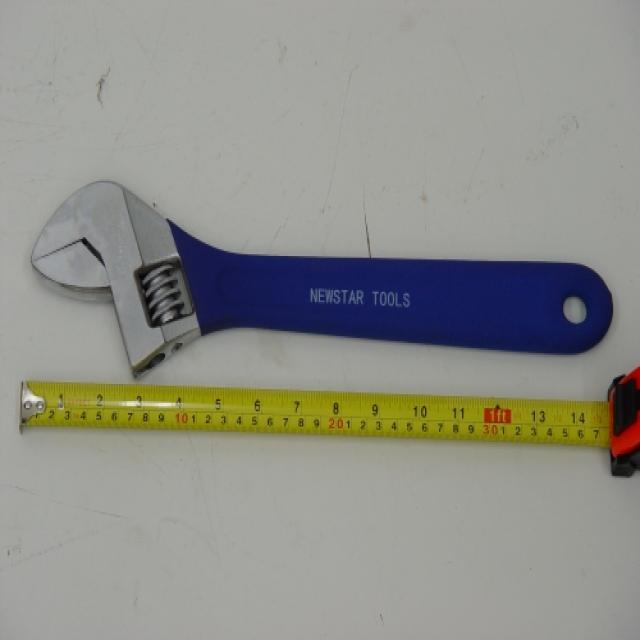wrench: (26, 169, 616, 387)
